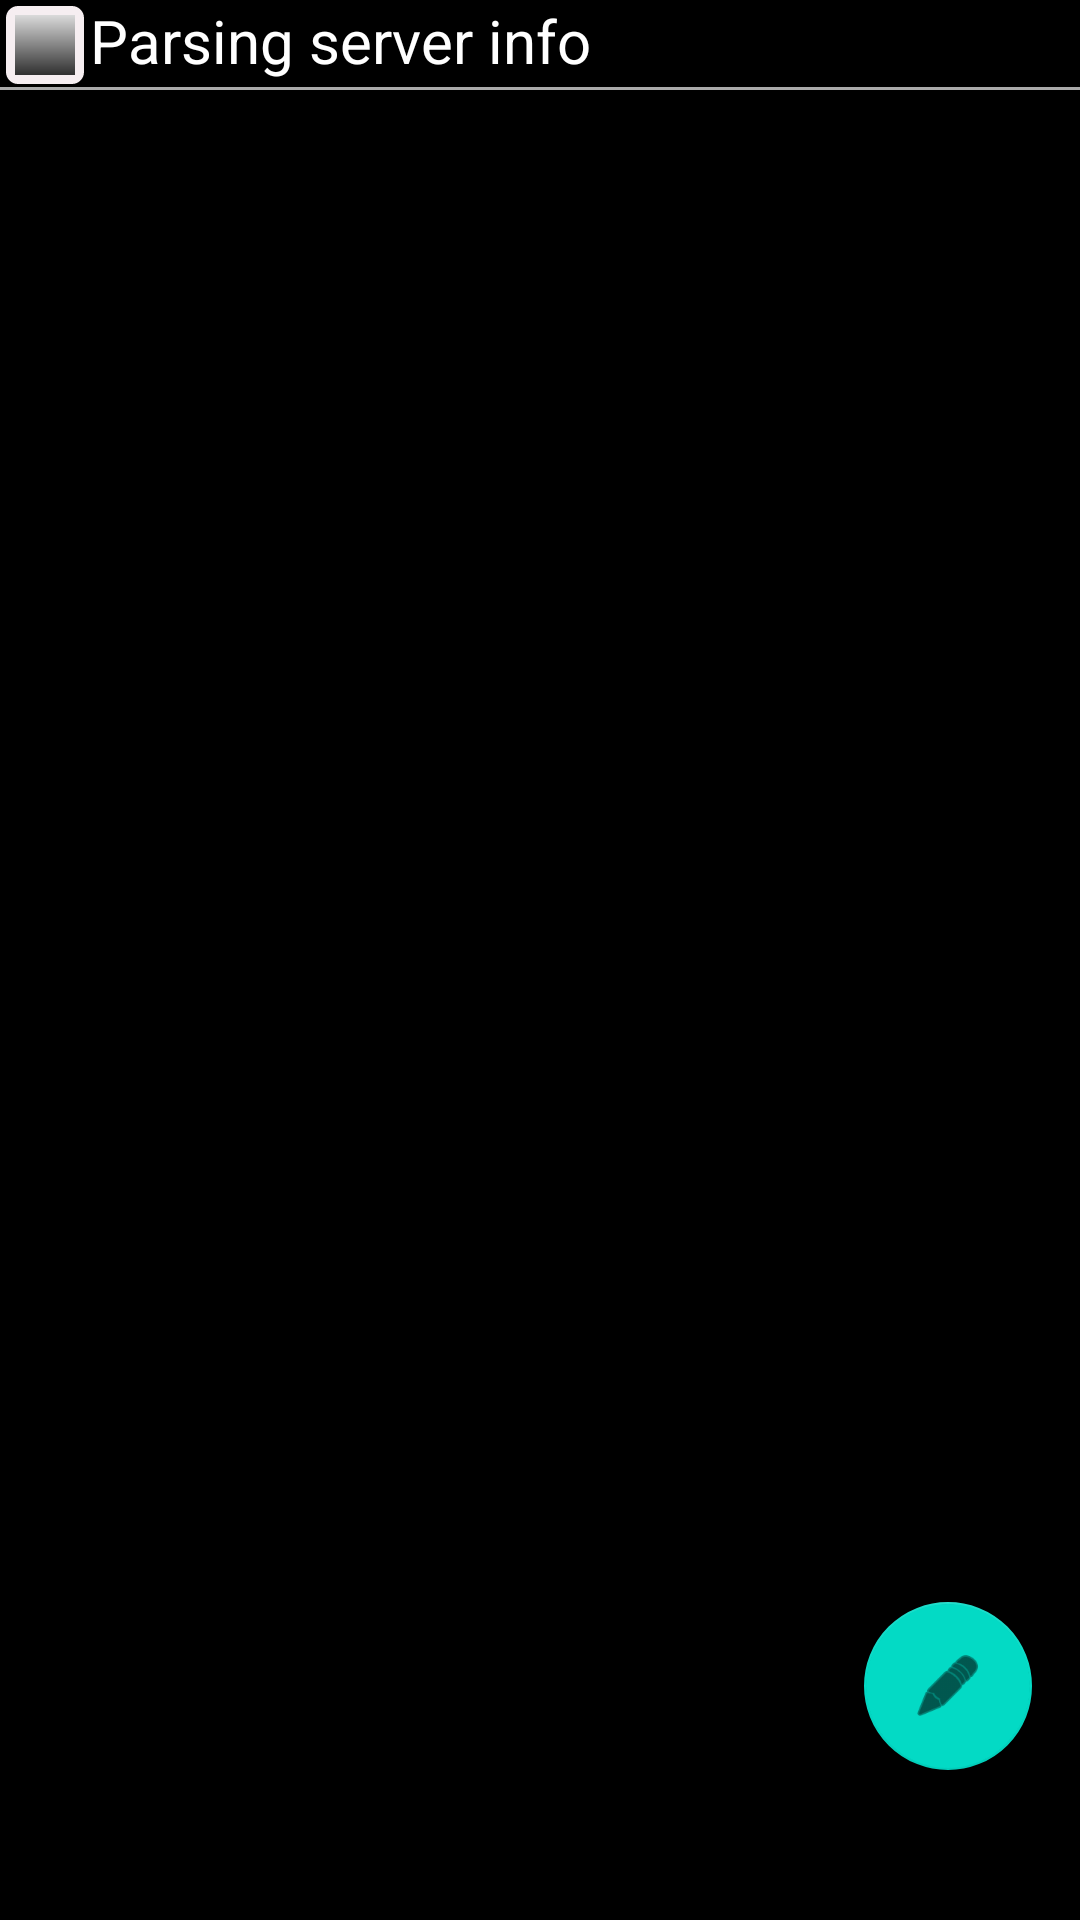

Icons on this 1080px x 1920px Android screen, each with its box as (x1, y1, x2, y2):
edit: (864, 1602, 1032, 1770)
